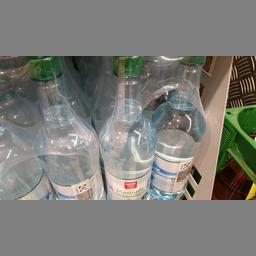water: (23, 56, 102, 198), (94, 56, 152, 199), (150, 55, 204, 198)
